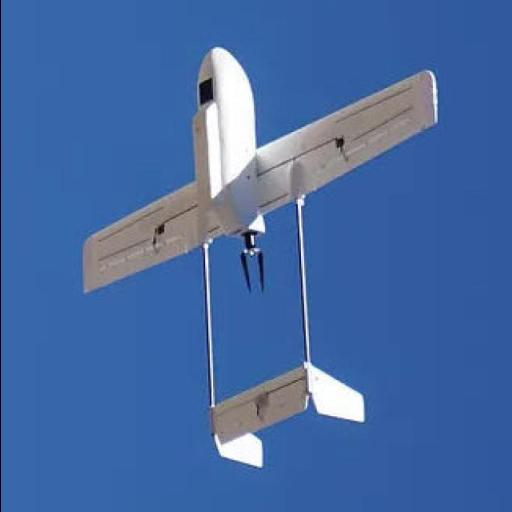uav: (80, 41, 450, 479)
